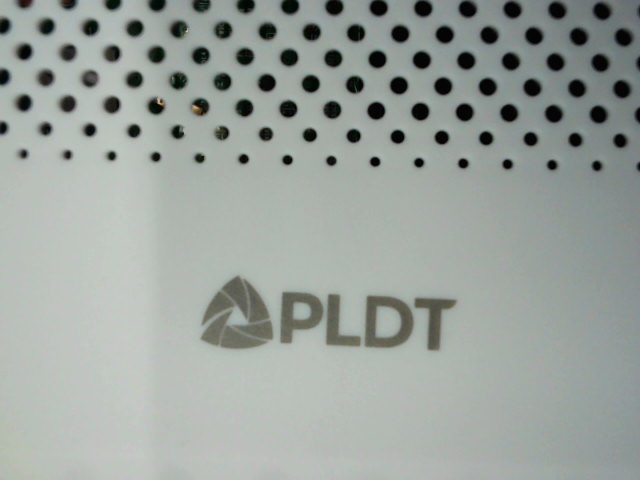BH_PLDT: (198, 267, 468, 380)
